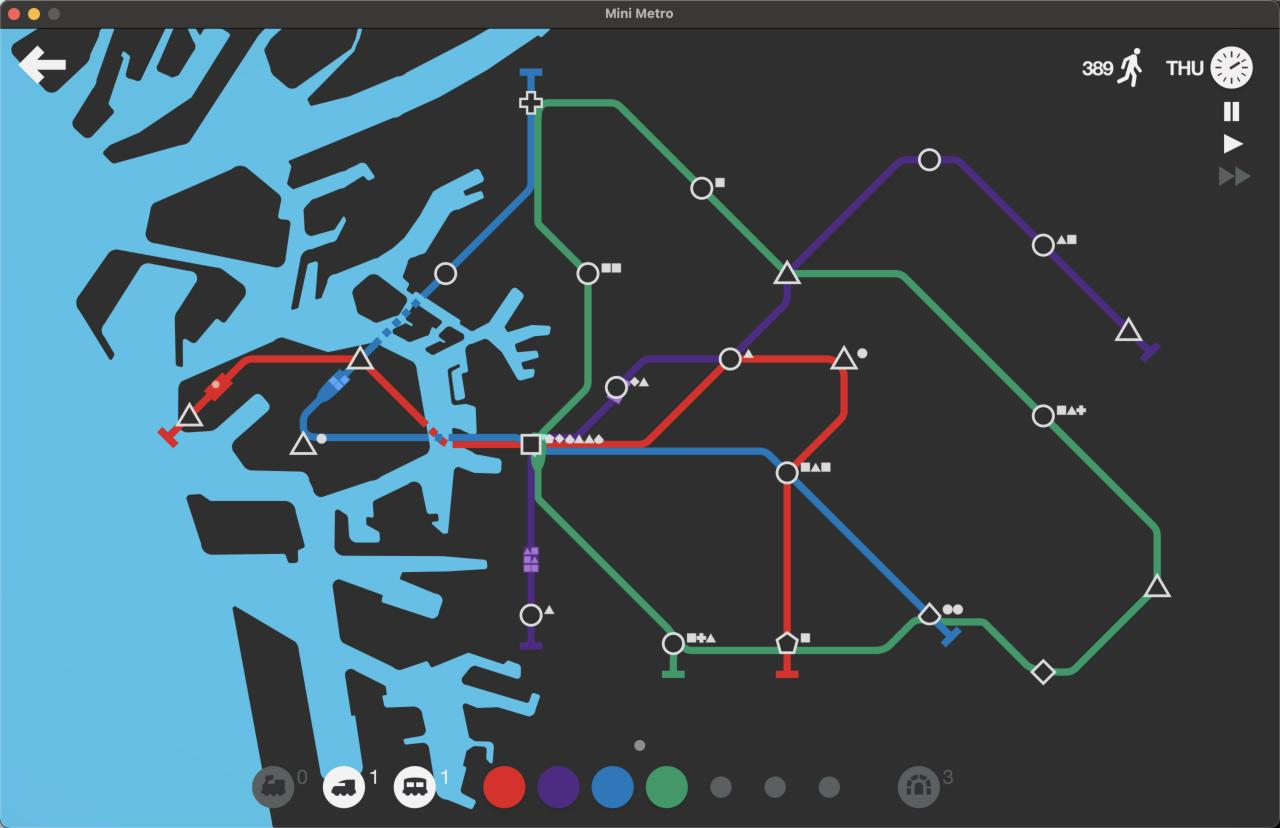BLUE LINE: (795, 480, 925, 609), (454, 116, 533, 269), (299, 370, 450, 441), (367, 277, 439, 355), (548, 447, 780, 466), (852, 539, 892, 577), (937, 623, 963, 649), (446, 434, 521, 441), (521, 68, 543, 89), (817, 503, 837, 521), (941, 624, 952, 644)
DARK GREEN LINE: (796, 270, 1037, 409), (535, 455, 674, 633), (1050, 421, 1163, 574), (541, 101, 693, 180), (533, 99, 580, 271), (1055, 596, 1151, 676), (541, 286, 591, 433), (705, 194, 785, 272), (943, 619, 1036, 670), (797, 618, 924, 655), (683, 645, 779, 654), (661, 655, 685, 677), (798, 272, 815, 277)
PURPLE LINE: (795, 157, 919, 267), (945, 157, 1036, 239), (1053, 251, 1124, 327), (741, 286, 792, 353), (625, 355, 718, 380), (525, 456, 535, 604), (576, 400, 617, 436), (521, 626, 544, 650), (1140, 343, 1159, 361)
RED LINE: (549, 365, 726, 447), (367, 369, 520, 448), (195, 355, 353, 411), (793, 371, 848, 468), (784, 484, 791, 633), (742, 355, 834, 363), (775, 653, 800, 677), (158, 426, 184, 448)
